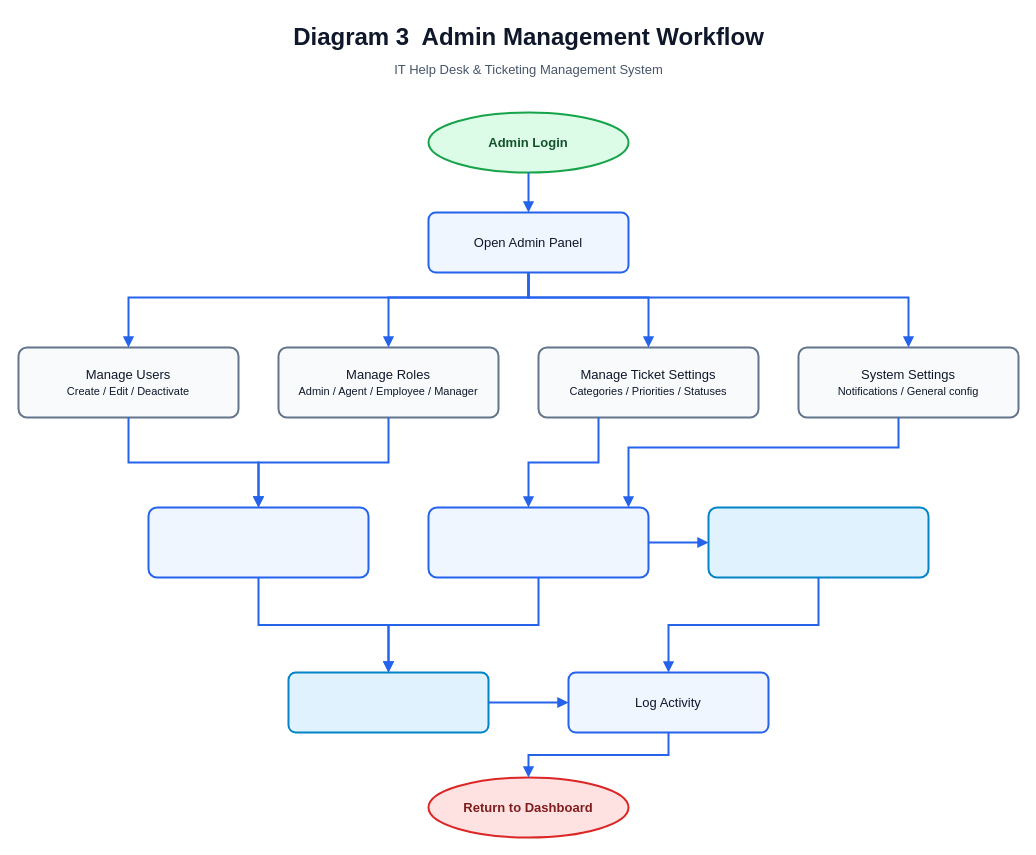
Some shapes in this 1036 by 855 pixel diagram are drawn without their labels. Each missing label, with the box of its shape:
Export PDF / Excel: (707, 506, 929, 578)
Generate Reports Tickets, agents, SLA, monthly report: (427, 506, 649, 578)
Save Changes: (287, 671, 489, 733)
View Activity Logs User actions and audit trail: (147, 506, 369, 578)
